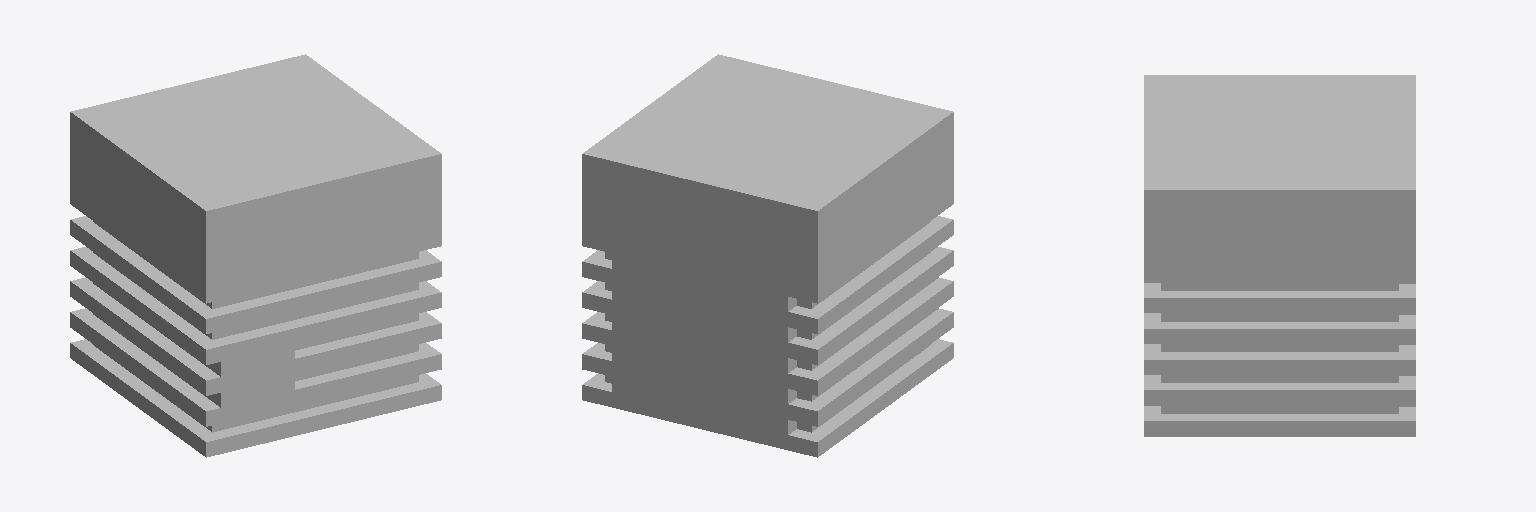
The model's file is workstation.obj.
3 views of the same model, side by side, from view 1: azimuth 30°, elevation 25°; view 2: azimuth 150°, elevation 25°; view 3: azimuth 270°, elevation 25° (orthographic).
Parts seen in each view (by area): view 1: cube; view 2: cube; view 3: cube.
Part boxes in pixels (bbox=[...]): cube: bbox=[70, 54, 441, 457]; cube: bbox=[582, 54, 953, 457]; cube: bbox=[1144, 75, 1415, 436].
Bounding box in the file's own units: 1 × 1 × 1.